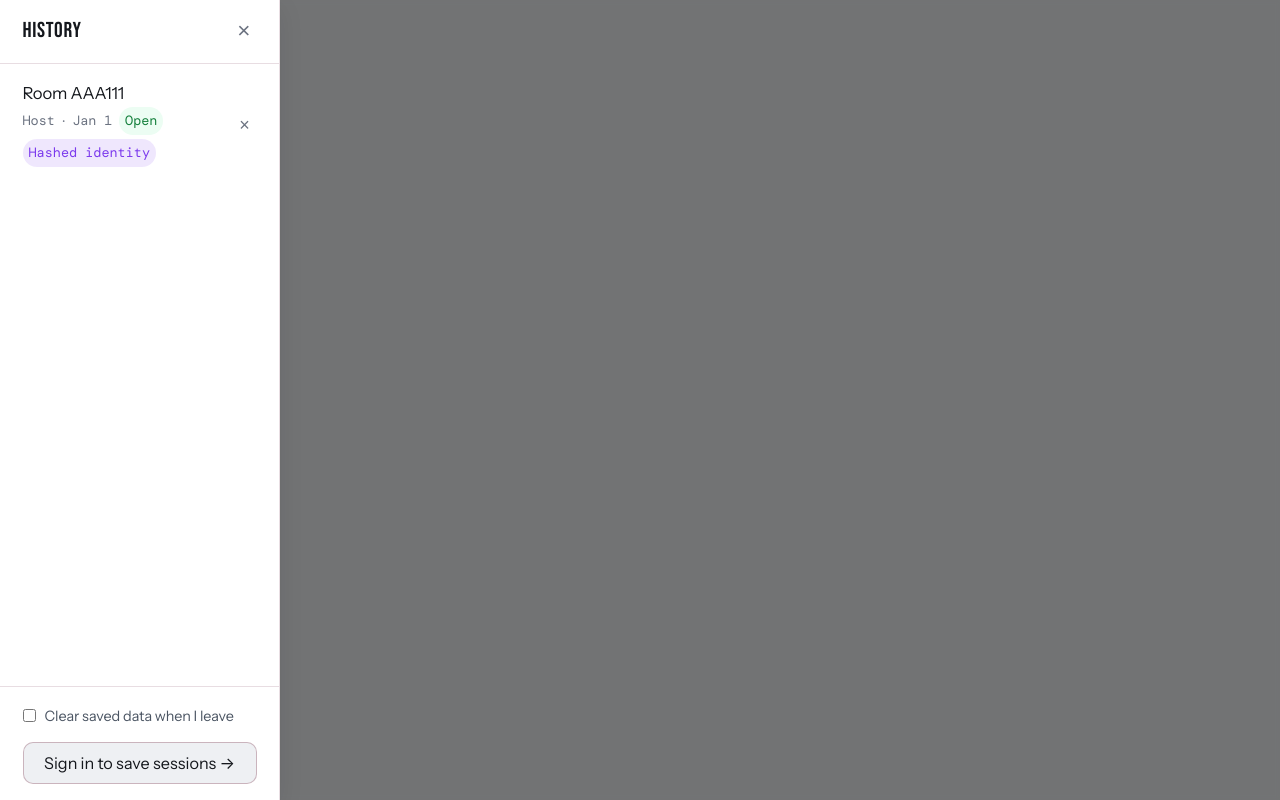
Scenario: Sidebar behavior around the badge › dismiss removes the row without navigating
This screenshot has width=1280, height=800.
Expected: the text "Room AAA111" is shown, top-left (22, 83), bottom-right (124, 103)
What coordinates should you click on to do the following:
click the button named "Remove from history"
I would click on:
 (244, 125)
Its box is top-left (232, 113), bottom-right (256, 137).
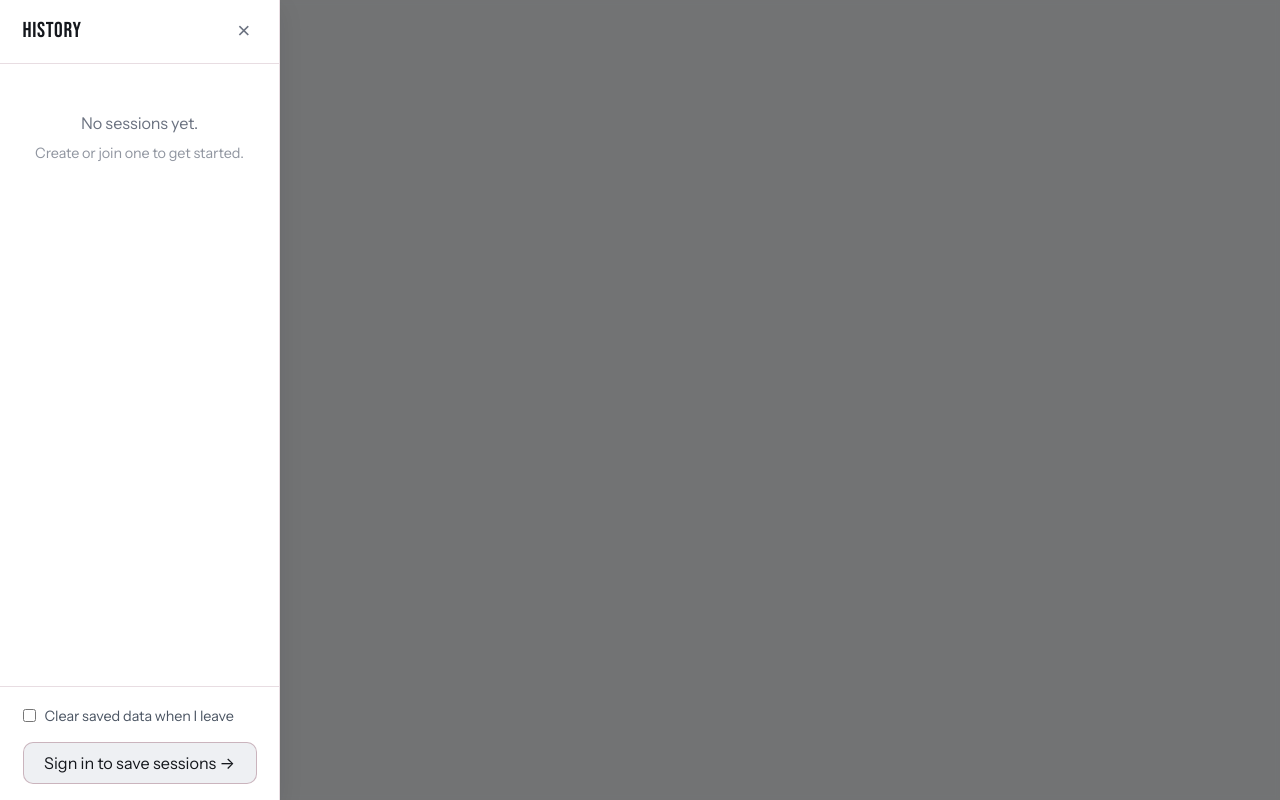
Expected: the text "Room AAA111" is gone
